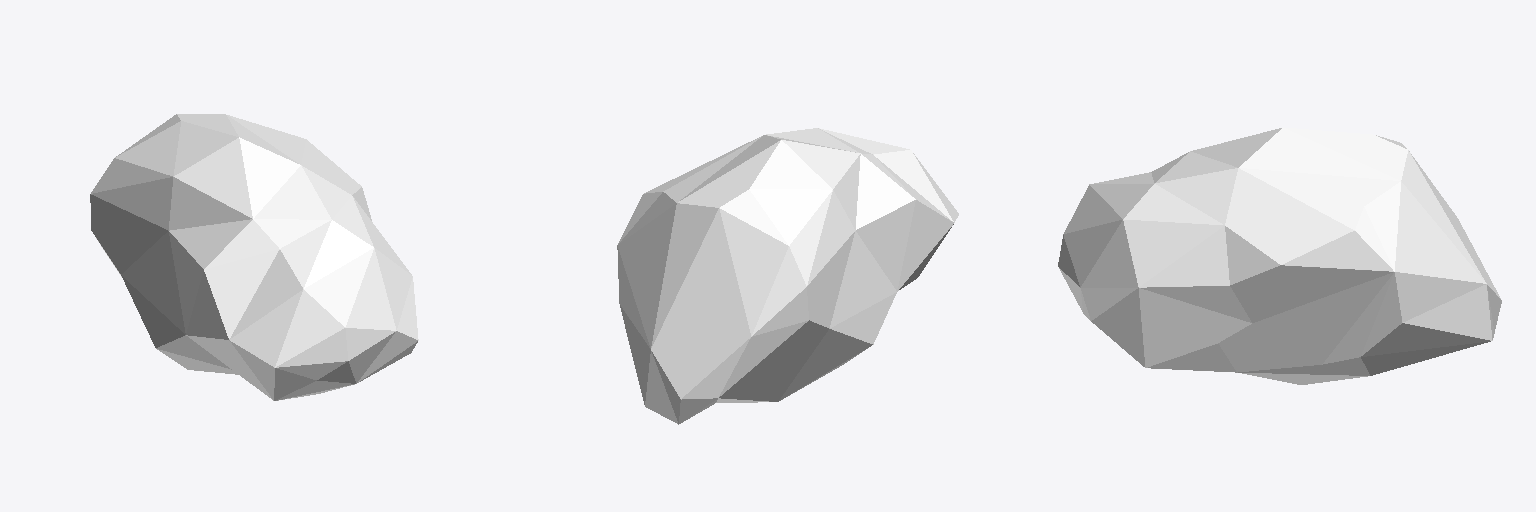
File: rock9.obj
3 renders of one model, left to right at view 1: azimuth 30°, elevation 25°; view 2: azimuth 150°, elevation 25°; view 3: azimuth 270°, elevation 25°, orthographic.
Visible parts, largest first — view 1: 0_0; view 2: 0_0; view 3: 0_0.
Boxes of the visible parts, x1=… form: 0_0: x1=90, y1=114, x2=418, y2=400; 0_0: x1=617, y1=128, x2=958, y2=424; 0_0: x1=1058, y1=127, x2=1501, y2=384.
Size of the model in its own units: 2.72 by 2.95 by 4.9.